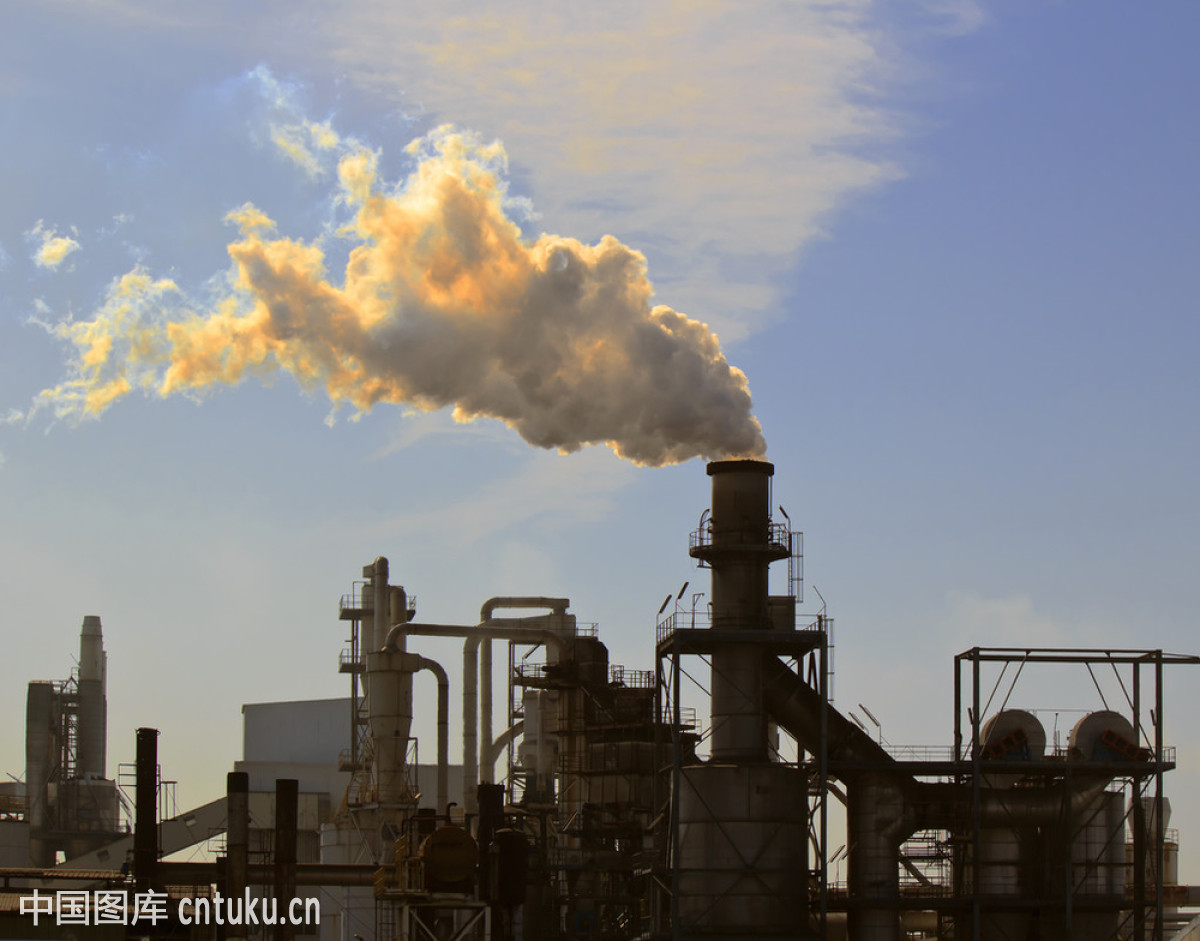dust: (298, 163, 807, 480)
